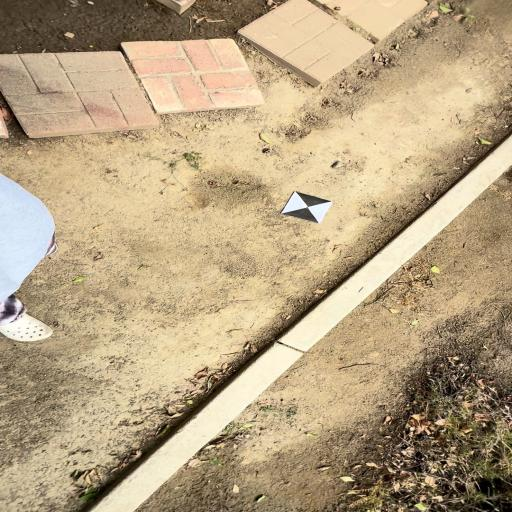target: (281, 191, 333, 223)
